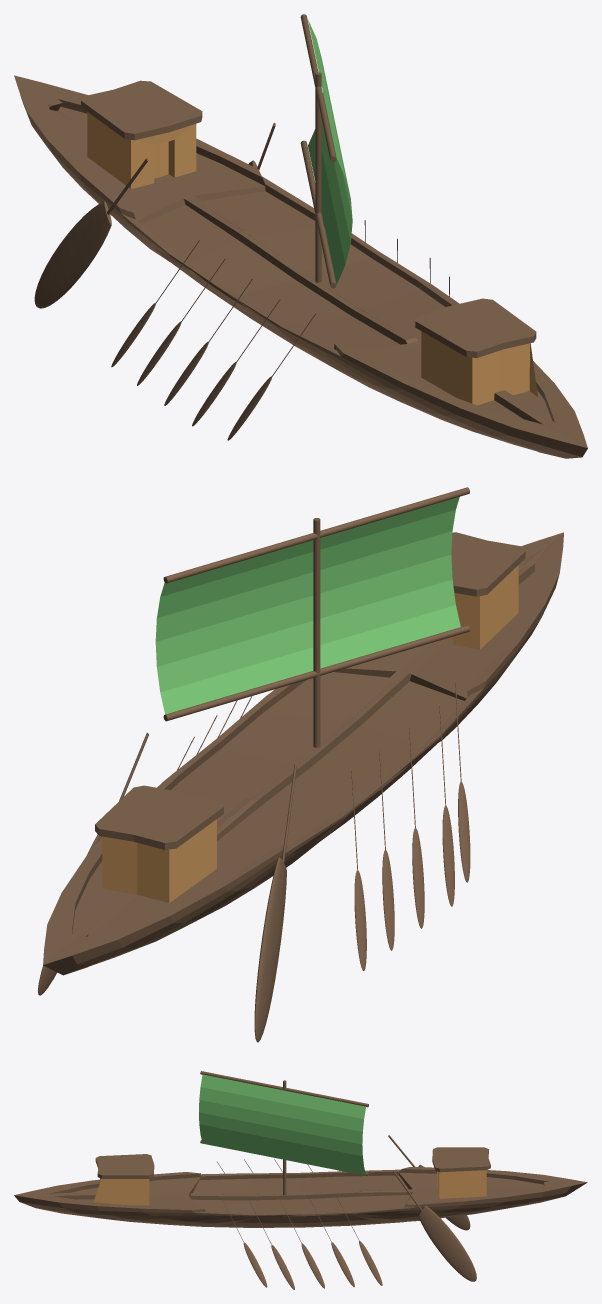
File: Ship.fbx
3 views of the same model, one above another, from view 1: azimuth 30°, elevation 25°; view 2: azimuth 150°, elevation 25°; view 3: azimuth 270°, elevation 25° (orthographic). The views are drawn at different scales.
Visible parts, largest first — view 1: Cube; view 2: Cube; view 3: Cube.
Boxes of the visible parts, x1,y1,x2,y2 form: Cube: (14, 14, 587, 458); Cube: (38, 487, 563, 1042); Cube: (14, 1071, 587, 1289).
Bounding box in the file's own units: 7.86 × 9.99 × 28.97.
